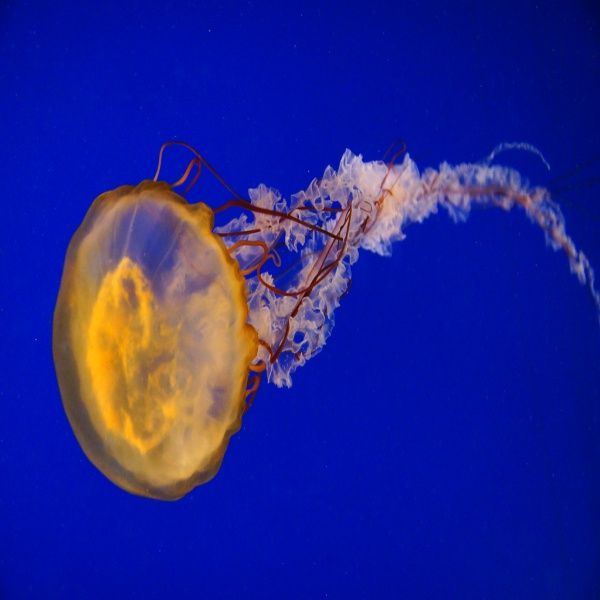Jellyfish: (51, 141, 599, 502)
